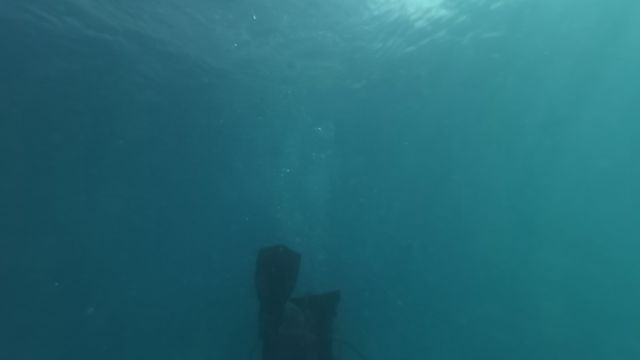Diver: (249, 236, 350, 348)
